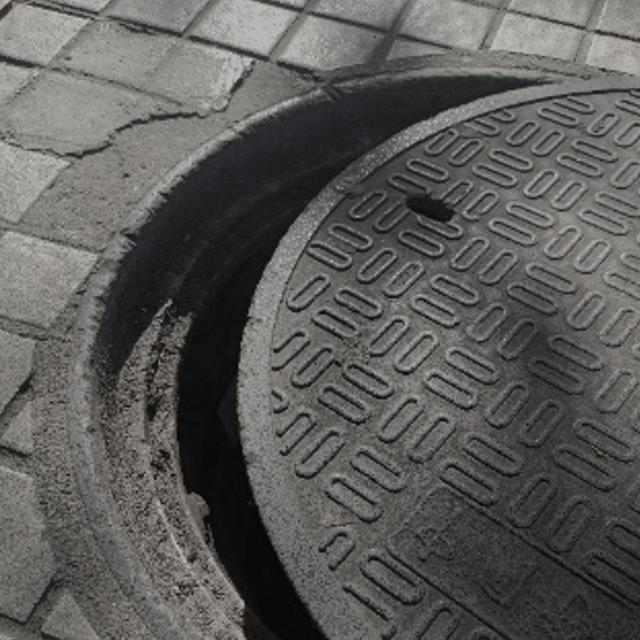uncovered: (75, 49, 640, 640)
